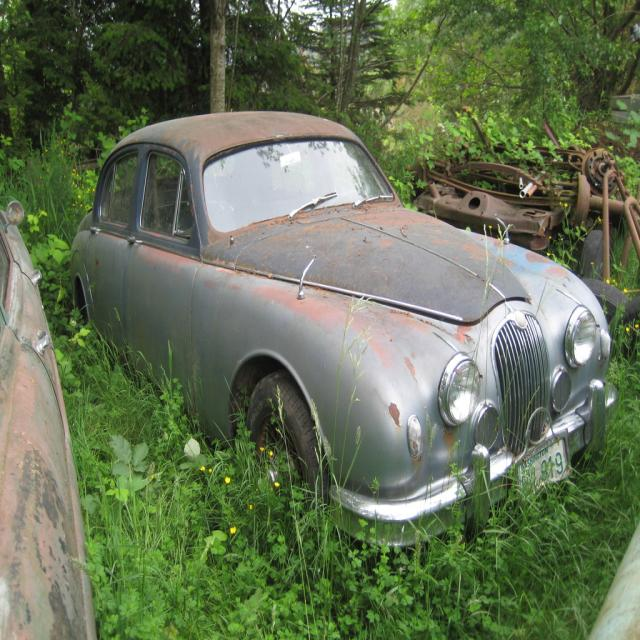Car: (70, 111, 620, 549), (0, 201, 97, 640)
